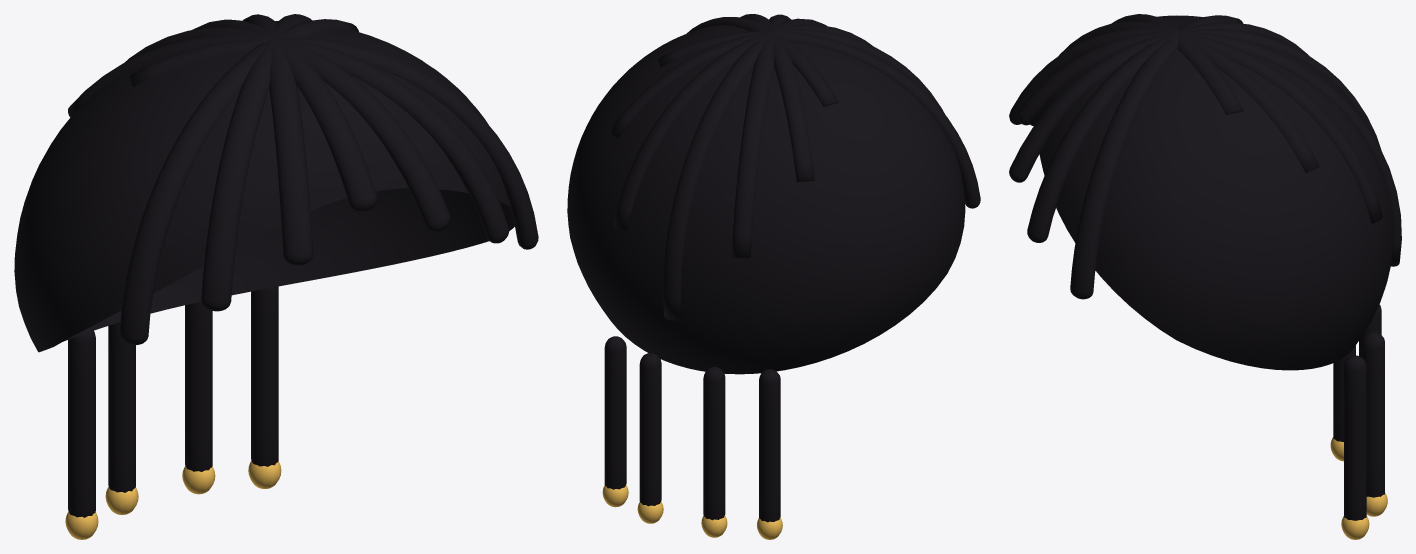
The model's file is hair_12.glb.
The picture shows the model from 3 angles, left to right: view 1: azimuth 30°, elevation 25°; view 2: azimuth 150°, elevation 25°; view 3: azimuth 270°, elevation 25°; orthographic projection. The views are drawn at different scales.
Visible parts, largest first — view 1: hair_12, hair_12_x; view 2: hair_12, hair_12_x; view 3: hair_12, hair_12_x.
Part boxes in pixels (box(x1,y1,x2,y2)): hair_12: box(14, 14, 538, 517); hair_12_x: box(65, 461, 281, 539); hair_12: box(567, 14, 980, 522); hair_12_x: box(602, 485, 782, 539); hair_12: box(1009, 14, 1401, 520); hair_12_x: box(1330, 437, 1387, 539).
Bounding box in the file's own units: 0.8177 × 0.9522 × 0.726.
